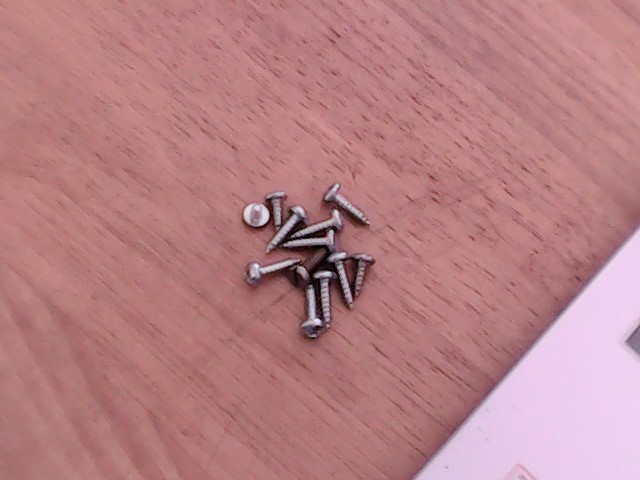Metal: (228, 169, 400, 357)
